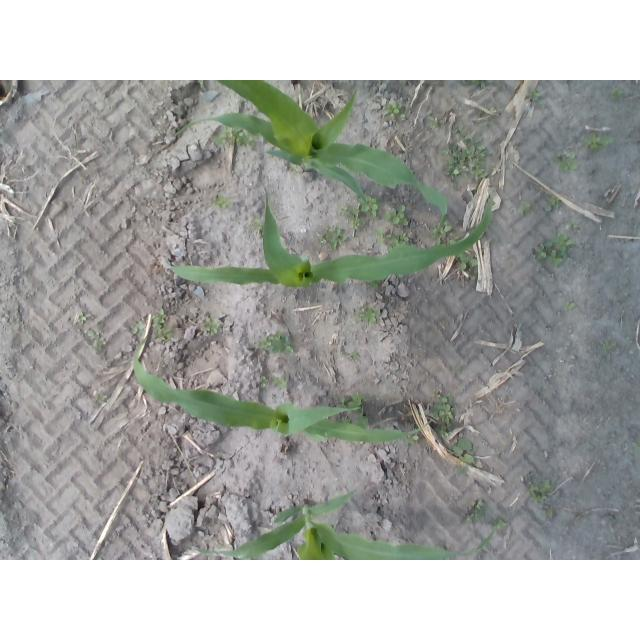Maize: (170, 81, 447, 232), (164, 181, 494, 288), (132, 337, 433, 444), (186, 489, 495, 560)
Weeds: (443, 142, 490, 178), (534, 235, 574, 266), (257, 333, 294, 354), (433, 392, 455, 424), (464, 500, 488, 522), (453, 441, 475, 463), (388, 203, 409, 226), (530, 480, 552, 501), (558, 152, 578, 173), (585, 133, 611, 147), (359, 196, 377, 216), (435, 225, 453, 243), (88, 330, 107, 347), (153, 310, 167, 331), (333, 229, 348, 248), (205, 318, 220, 335), (459, 255, 477, 269), (427, 115, 445, 129), (214, 195, 234, 207), (384, 102, 401, 116), (212, 136, 231, 148), (530, 91, 546, 105), (466, 132, 483, 145), (236, 134, 252, 147), (470, 80, 495, 88), (546, 197, 560, 211), (350, 213, 362, 229), (394, 233, 410, 245), (348, 395, 365, 406), (364, 309, 377, 323), (77, 312, 91, 325), (133, 322, 147, 335), (222, 127, 238, 138), (453, 123, 464, 139), (456, 465, 469, 478), (436, 425, 452, 435), (159, 330, 172, 342), (322, 230, 331, 246), (339, 205, 353, 215), (519, 205, 531, 216), (275, 376, 286, 388), (381, 230, 393, 240), (611, 88, 623, 98), (251, 220, 261, 231), (483, 117, 494, 127), (496, 521, 507, 531), (97, 393, 108, 403), (565, 302, 575, 311), (547, 507, 555, 518), (350, 351, 359, 360), (353, 314, 362, 322), (605, 342, 616, 348), (570, 222, 579, 229), (262, 376, 267, 388), (489, 107, 496, 113), (400, 115, 405, 122)
